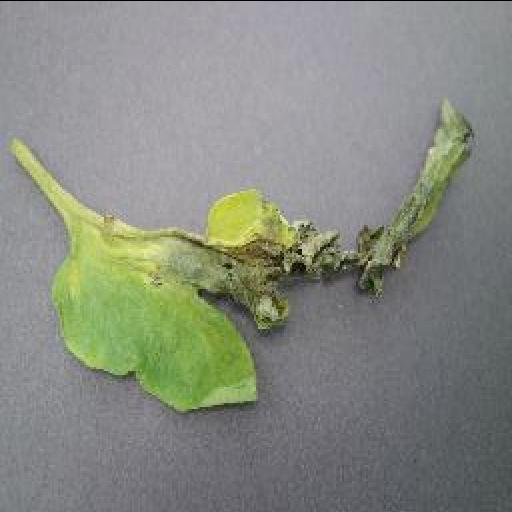disease_tomato: (51, 94, 481, 412)
